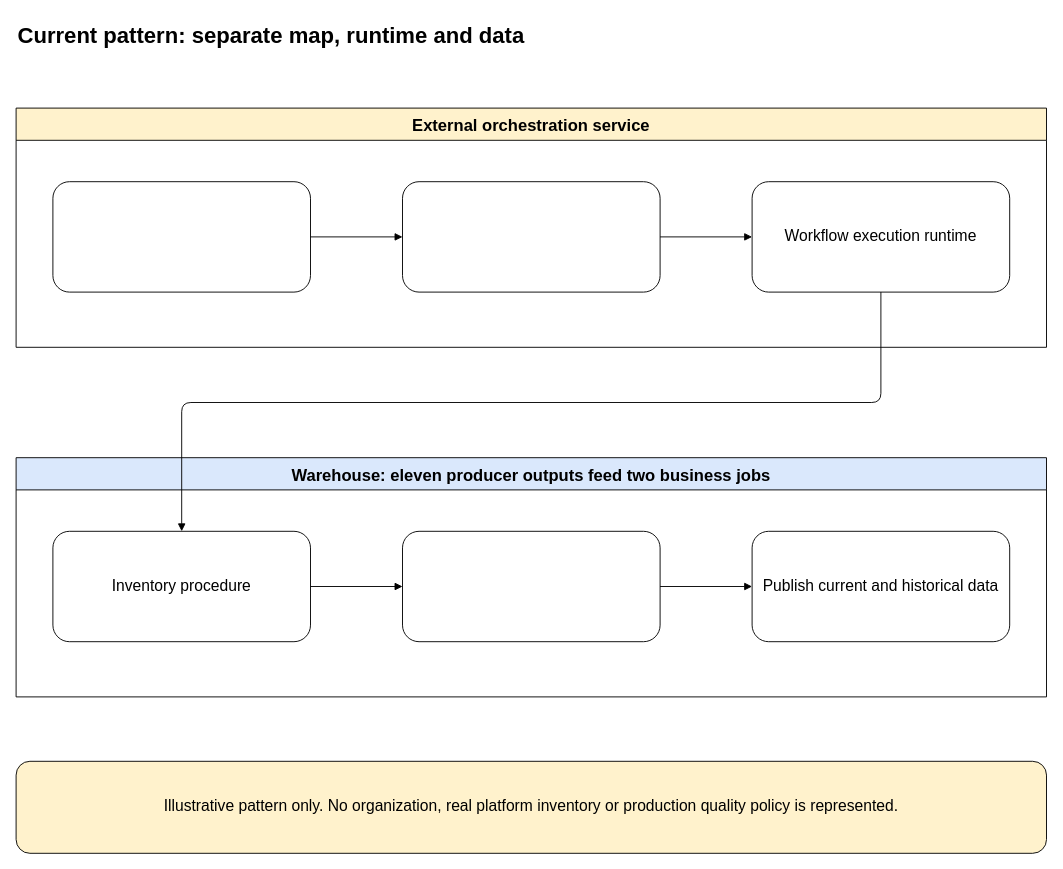
Some shapes in this 1063 by 869 pixel diagram are drawn without their labels. The shapes that lost their labels are listed below. From the top down, each one's centre as x and y in pixels, then its label:
At point (181, 236): "Job definitions, dependencies and run status".
At point (531, 236): "Dispatcher: poll required parents and substitute parameters".
At point (531, 586): "Prepare result and apply application quality rules".
